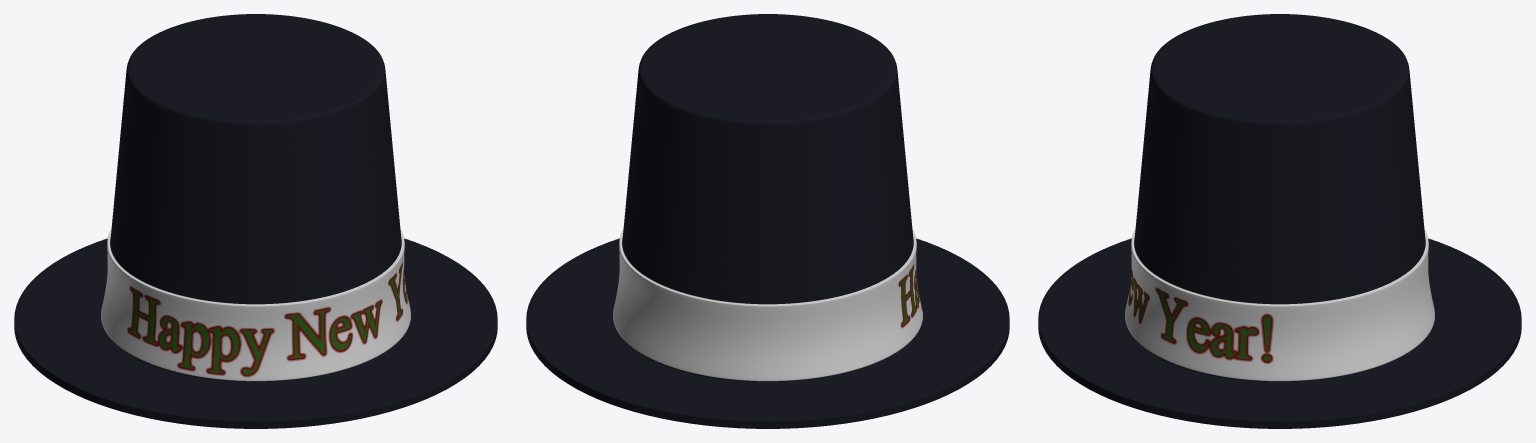
Rendered from top-hat.glb.
The picture shows the model from 3 angles, left to right: view 1: azimuth 30°, elevation 25°; view 2: azimuth 150°, elevation 25°; view 3: azimuth 270°, elevation 25°; orthographic projection.
Parts seen in each view (by area): view 1: 12180_Hat_v2_L3; view 2: 12180_Hat_v2_L3; view 3: 12180_Hat_v2_L3.
Boxes of the visible parts, box(x1,y1,x2,y2) form: 12180_Hat_v2_L3: box(14, 14, 497, 428); 12180_Hat_v2_L3: box(526, 14, 1009, 428); 12180_Hat_v2_L3: box(1038, 14, 1521, 428).
Size of the model in its own units: 30.65 by 18.2 by 30.65.
1 material, 1 textured.
